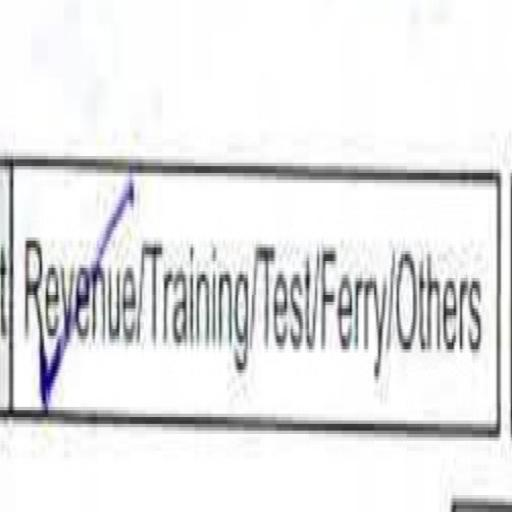check: (25, 115, 132, 472)
